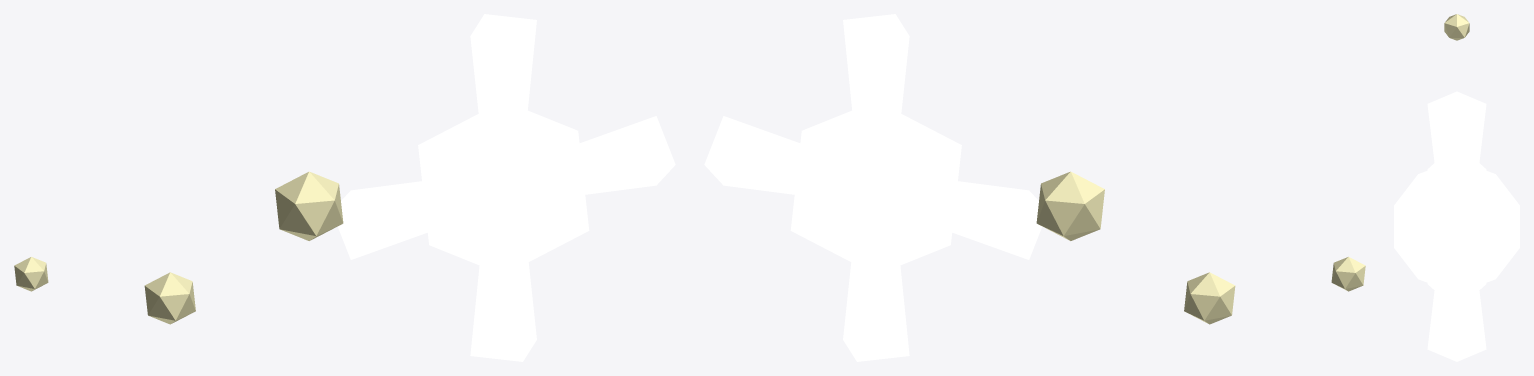
Rendered from FX_Spell.fbx.
3 renders of one model, left to right at view 1: azimuth 30°, elevation 25°; view 2: azimuth 150°, elevation 25°; view 3: azimuth 270°, elevation 25°, orthographic. The views are drawn at different scales.
Visible parts, largest first — view 1: FX_Spell; view 2: FX_Spell; view 3: FX_Spell.
Boxes of the visible parts, x1,y1,x2,y2 form: FX_Spell: (14, 14, 675, 361); FX_Spell: (704, 14, 1365, 361); FX_Spell: (1394, 14, 1519, 361).
Bounding box in the file's own units: 1.15 × 0.55 × 0.2552.
